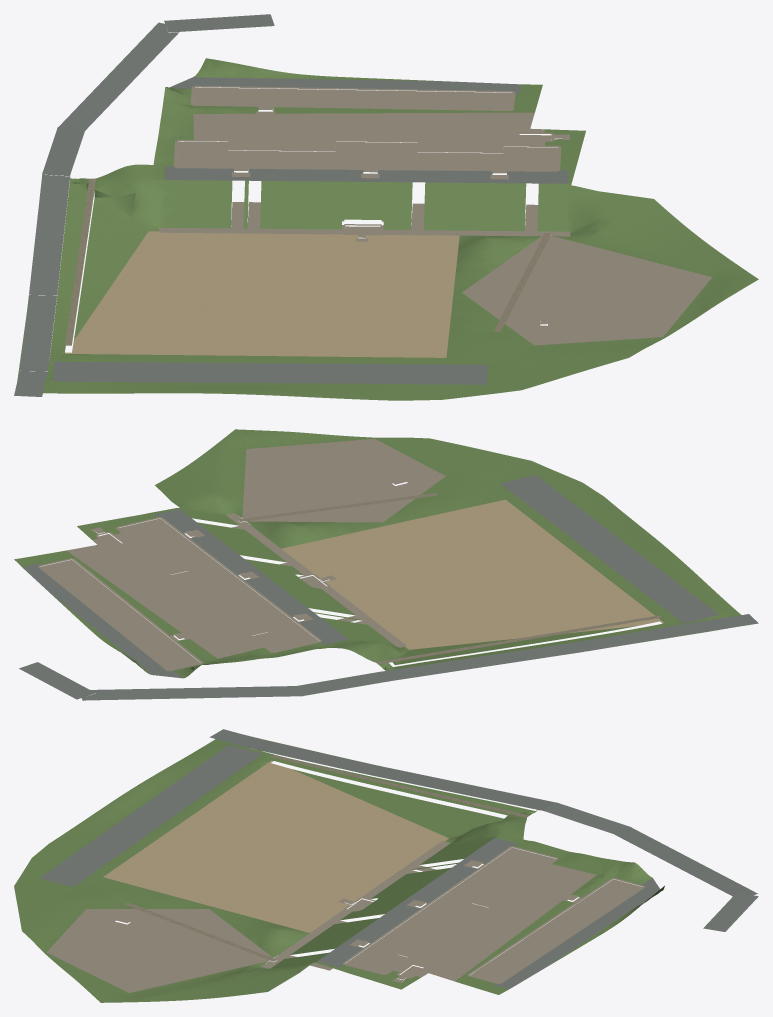
3 views of the same model, one above another, from view 1: azimuth 30°, elevation 25°; view 2: azimuth 150°, elevation 25°; view 3: azimuth 270°, elevation 25° (orthographic). The views are drawn at different scales.
Visible parts, largest first — view 1: surface_soil-playing-field, surface_school-garden-ground, surface_front-planted-slope, surface_between-teaching-blocks, surface_gym-yard, surface_south-parking, surface_underbuilding-main, surface_field-west-graded-shoulder, surface_underbuilding-gym, surface_underbuilding-annex, surface_main-front-apron, surface_west-drive-2 (+10 smaller); view 2: surface_soil-playing-field, surface_school-garden-ground, surface_between-teaching-blocks, surface_gym-yard, surface_south-parking, surface_underbuilding-main, surface_front-planted-slope, surface_underbuilding-gym, surface_underbuilding-annex, surface_main-front-apron, surface_field-west-graded-shoulder, surface_west-drive-4 (+9 smaller); view 3: surface_soil-playing-field, surface_school-garden-ground, surface_between-teaching-blocks, surface_gym-yard, surface_south-parking, surface_underbuilding-main, surface_field-west-graded-shoulder, surface_underbuilding-gym, surface_front-planted-slope, surface_underbuilding-annex, surface_main-front-apron, surface_annex-rear-parking (+9 smaller).
Part boxes in pixels (left/top/right/bottom): surface_soil-playing-field: left=65, top=231, right=459, bottom=357; surface_school-garden-ground: left=17, top=58, right=758, bottom=400; surface_front-planted-slope: left=163, top=180, right=567, bottom=231; surface_between-teaching-blocks: left=193, top=112, right=544, bottom=151; surface_gym-yard: left=462, top=236, right=711, bottom=345; surface_south-parking: left=53, top=361, right=487, bottom=384; surface_underbuilding-main: left=176, top=141, right=558, bottom=170; surface_field-west-graded-shoulder: left=49, top=182, right=148, bottom=362; surface_underbuilding-gym: left=550, top=269, right=651, bottom=327; surface_underbuilding-annex: left=193, top=87, right=512, bottom=109; surface_main-front-apron: left=164, top=166, right=568, bottom=183; surface_west-drive-2: left=29, top=174, right=70, bottom=295; surface_soil-playing-field: left=281, top=499, right=664, bottom=649; surface_school-garden-ground: left=14, top=429, right=741, bottom=678; surface_between-teaching-blocks: left=66, top=533, right=263, bottom=658; surface_gym-yard: left=242, top=438, right=445, bottom=522; surface_south-parking: left=500, top=475, right=719, bottom=622; surface_underbuilding-main: left=118, top=518, right=318, bottom=651; surface_front-planted-slope: left=180, top=509, right=396, bottom=646; surface_underbuilding-gym: left=260, top=448, right=405, bottom=503; surface_underbuilding-annex: left=41, top=559, right=200, bottom=669; surface_main-front-apron: left=155, top=509, right=348, bottom=644; surface_field-west-graded-shoulder: left=390, top=623, right=686, bottom=670; surface_west-drive-4: left=82, top=685, right=303, bottom=700; surface_soil-playing-field: left=103, top=760, right=448, bottom=932; surface_school-garden-ground: left=14, top=736, right=664, bottom=1002; surface_between-teaching-blocks: left=393, top=864, right=596, bottom=981; surface_gym-yard: left=46, top=909, right=272, bottom=992; surface_south-parking: left=39, top=745, right=262, bottom=886; surface_underbuilding-main: left=345, top=847, right=555, bottom=973; surface_field-west-graded-shoulder: left=262, top=751, right=534, bottom=838; surface_underbuilding-gym: left=71, top=922, right=207, bottom=977; surface_front-planted-slope: left=272, top=838, right=493, bottom=967; surface_underbuilding-annex: left=470, top=879, right=642, bottom=982; surface_main-front-apron: left=317, top=838, right=517, bottom=967; surface_annex-rear-parking: left=493, top=878, right=659, bottom=988.
Size of the model in its own units: 204 by 10.28 by 224.
5 materials, 5 textured.
